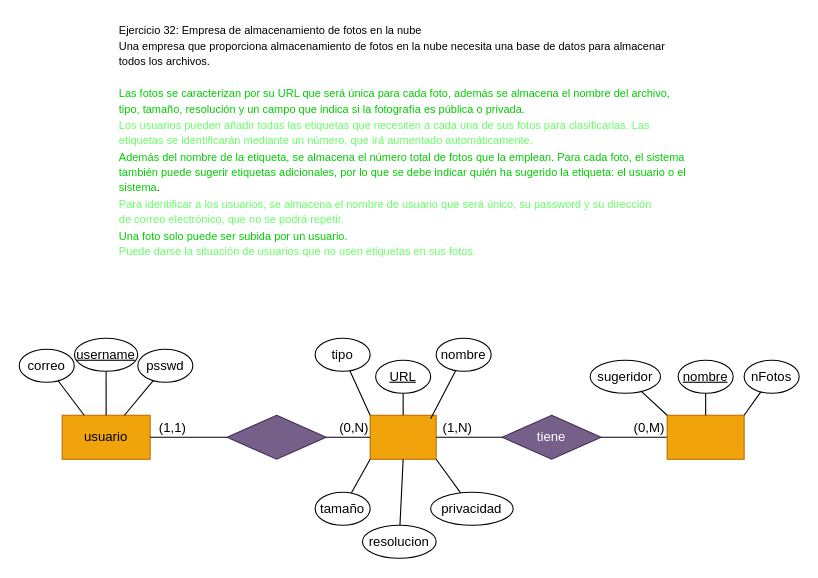
This 818x578 diagram has some shape labels left out. Each missing label, with the box of its shape:
etiqueta: (666, 414, 744, 459)
foto: (369, 414, 436, 459)
publica: (226, 414, 326, 459)
